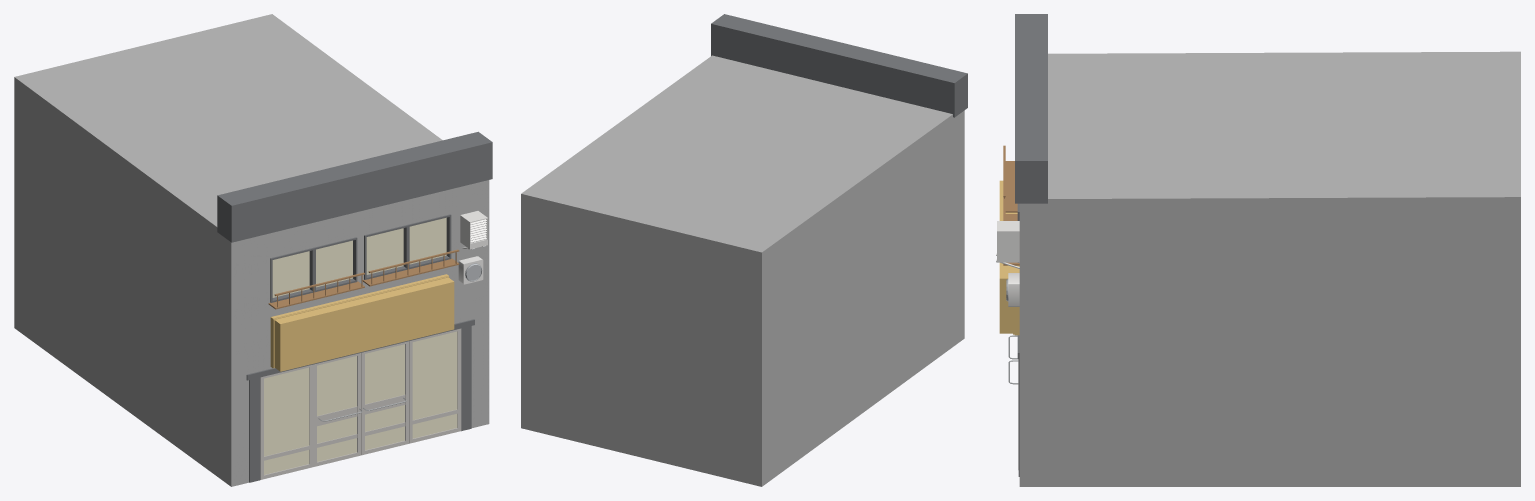
The model's file is building.fbx.
The picture shows the model from 3 angles, left to right: view 1: azimuth 30°, elevation 25°; view 2: azimuth 150°, elevation 25°; view 3: azimuth 270°, elevation 25°; orthographic projection. The views are drawn at different scales.
Visible parts, largest first — view 1: Object046; view 2: Object046; view 3: Object046.
Part boxes in pixels (<box>): Object046: <box>14,14,492,486</box>; Object046: <box>521,14,967,486</box>; Object046: <box>996,14,1520,486</box>.
Bounding box in the file's own units: 758 × 785 × 1143.
